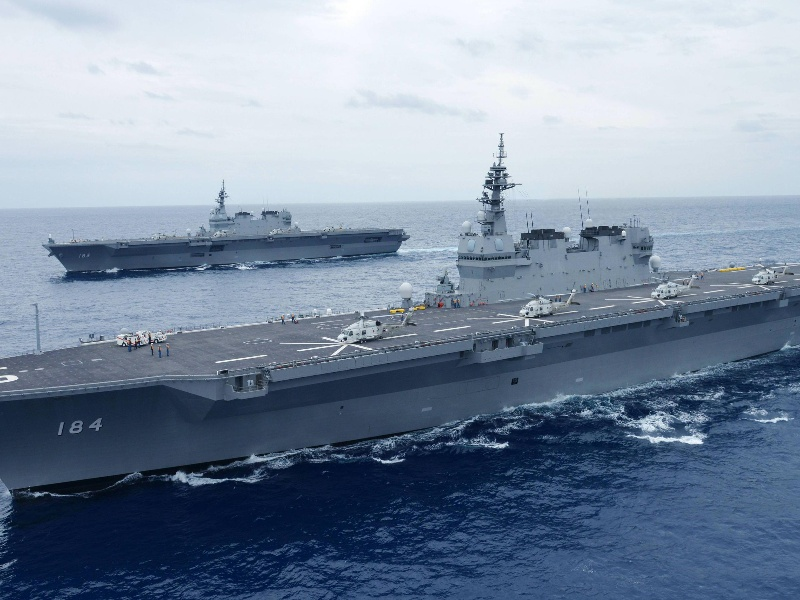carrier: (16, 226, 796, 480), (43, 209, 404, 277)
